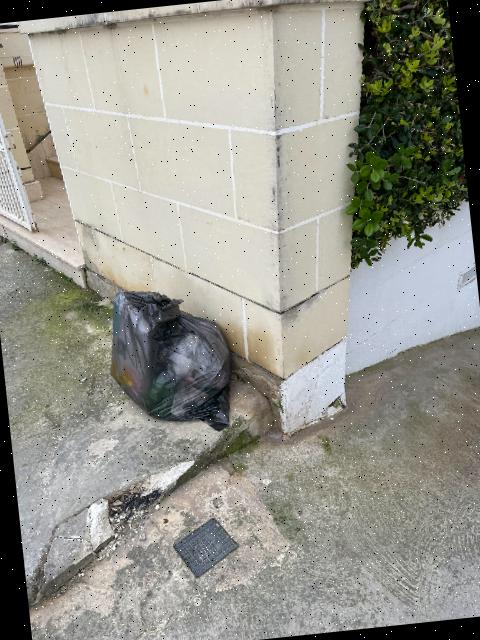Recyclable -Grey-: (111, 291, 231, 430)
